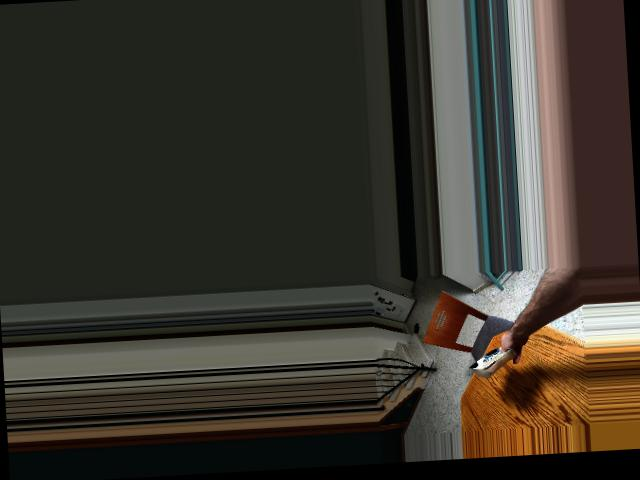cheese: (467, 342, 518, 379)
